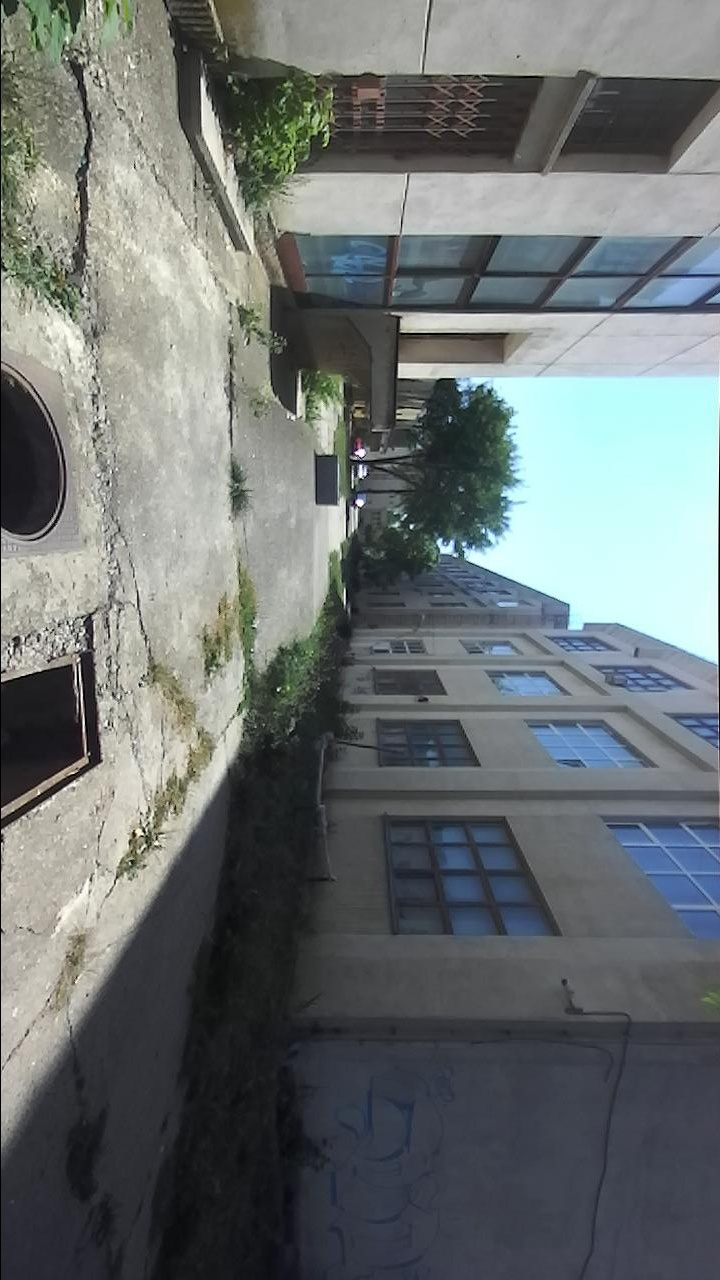drain: (1, 649, 107, 834), (1, 356, 73, 549)
